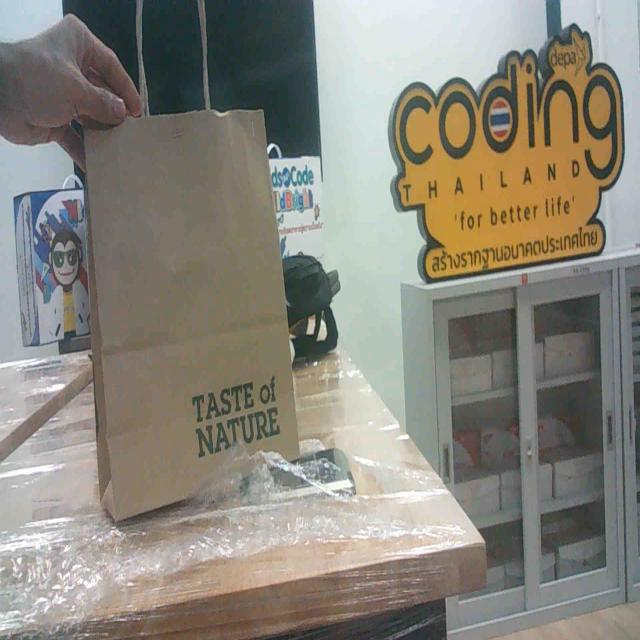bag: (67, 99, 318, 498)
